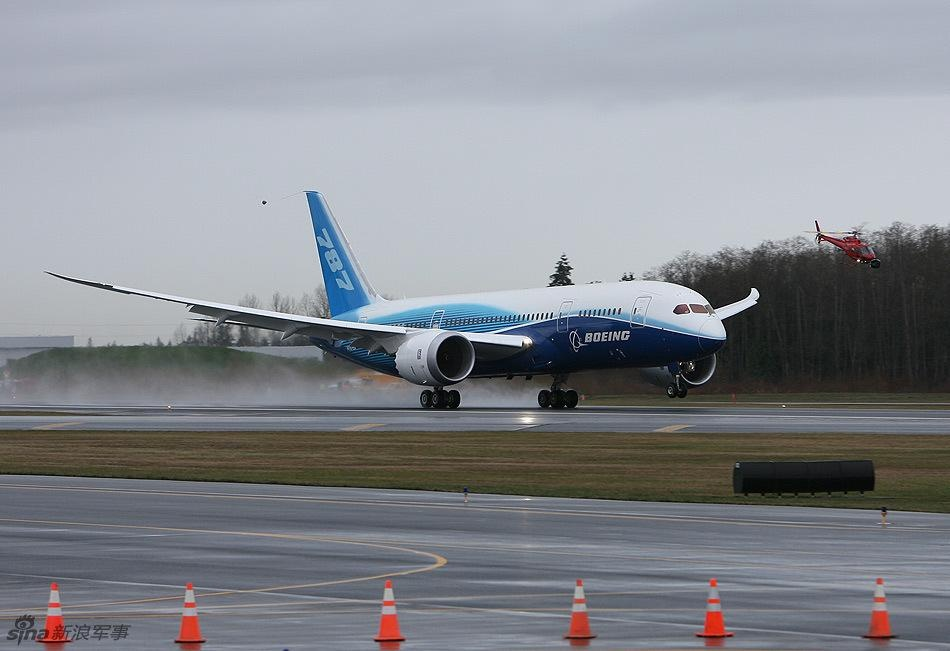airplane: (40, 188, 743, 414), (798, 208, 886, 273)
